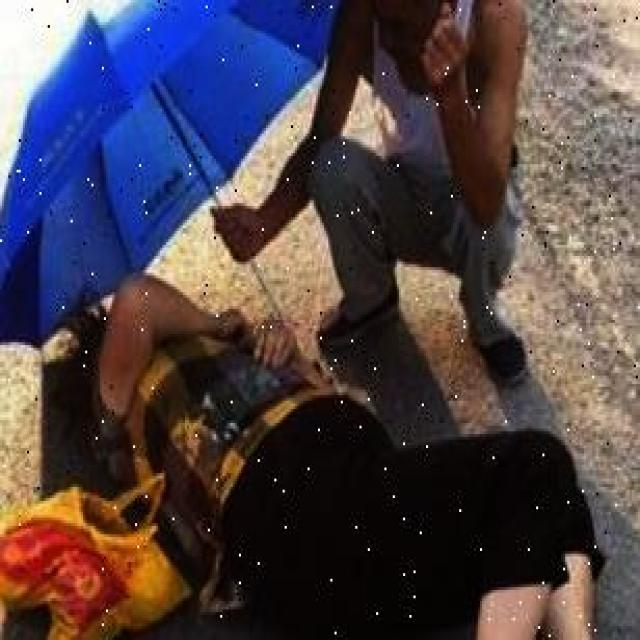fall: (64, 276, 600, 637)
